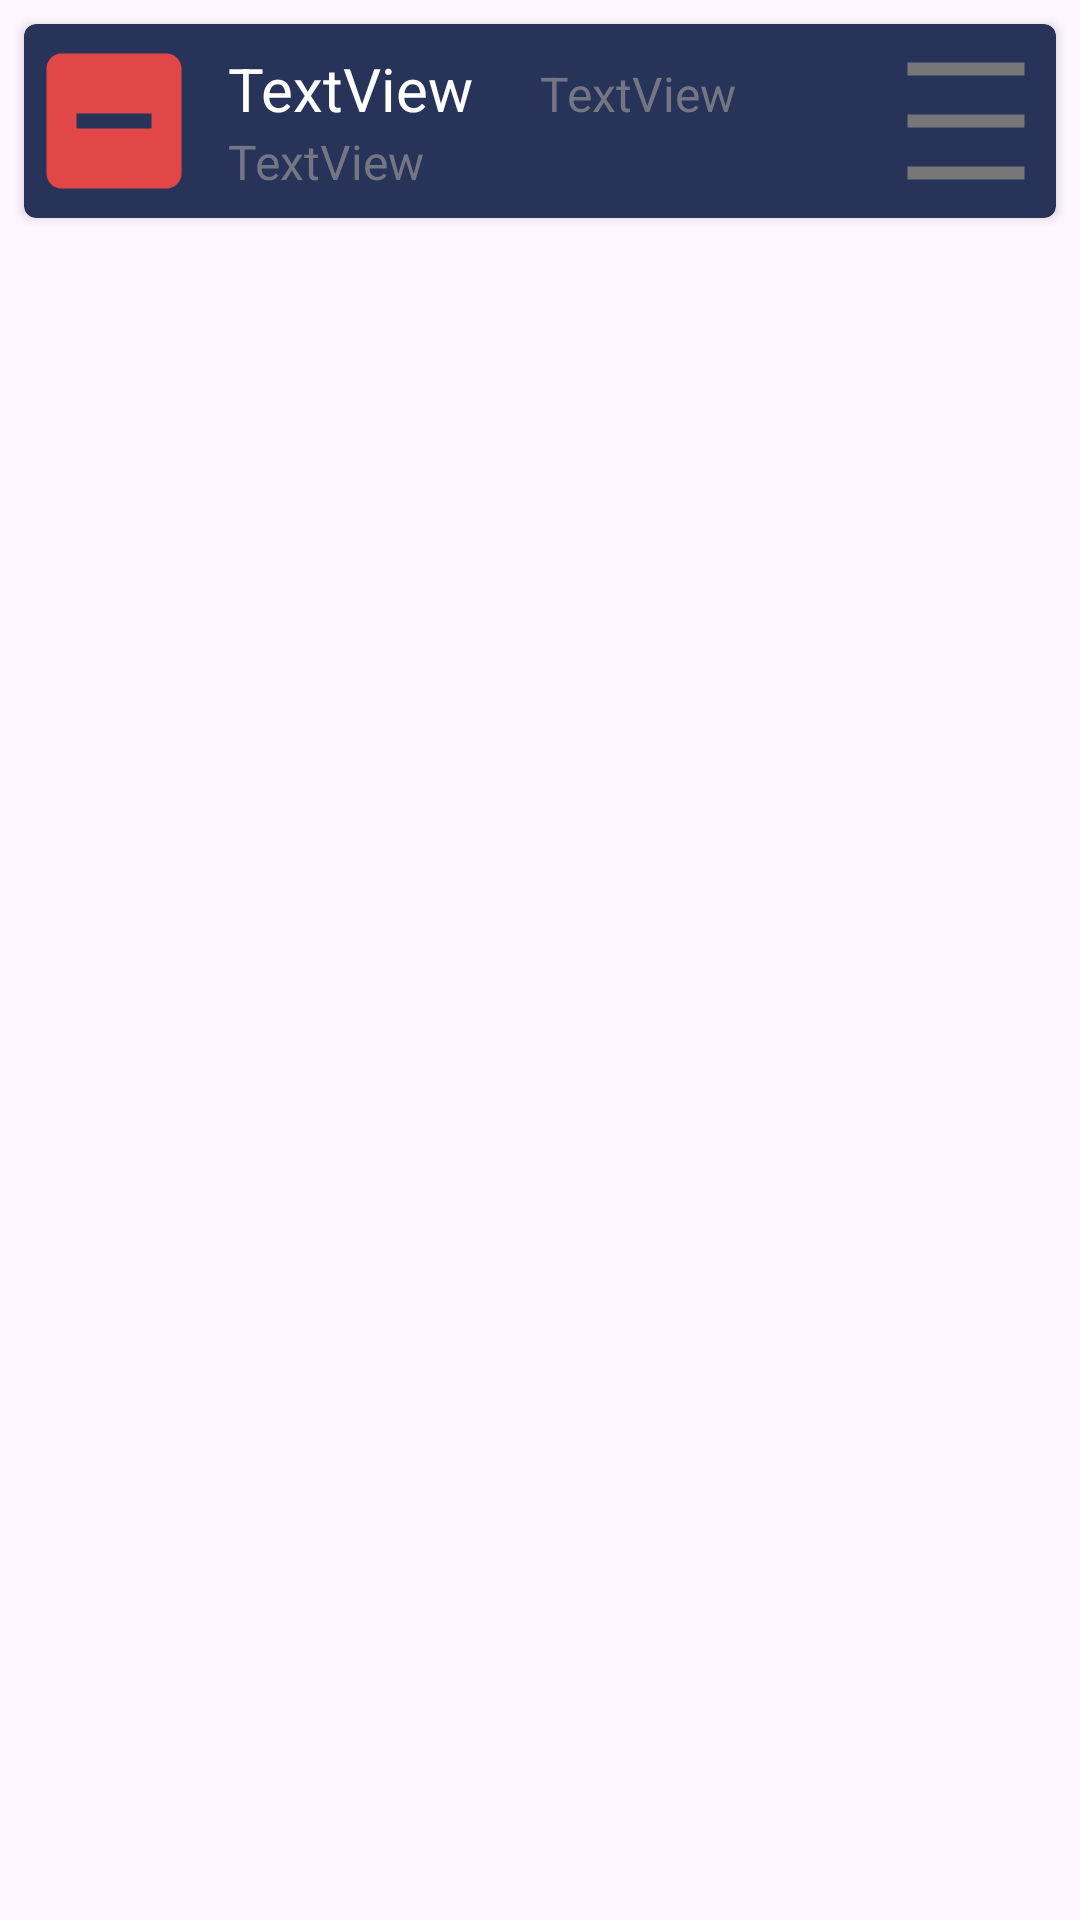

Named icons in this screenshot (1080*1920) and their centers, (x=x, y=y):
density medium: (x=966, y=121)
indeterminate check box: (x=114, y=121)
